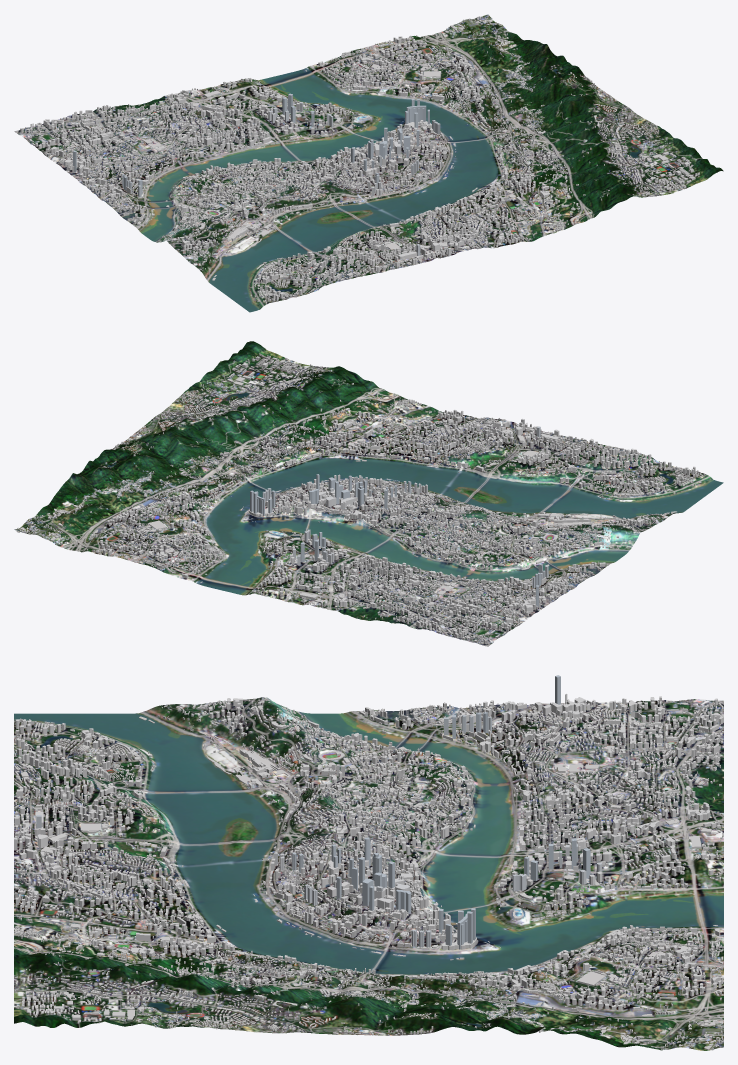
File: chongqing-yuzhong.glb
The picture shows the model from 3 angles, top to bottom: view 1: azimuth 30°, elevation 25°; view 2: azimuth 150°, elevation 25°; view 3: azimuth 270°, elevation 25°; orthographic projection. The views are drawn at different scales.
Visible parts, largest first — view 1: terrain, buildings; view 2: terrain, buildings; view 3: terrain, buildings.
Part boxes in pixels (<box>): terrain: <box>14,14,723,312</box>; buildings: <box>20,15,699,303</box>; terrain: <box>14,341,723,646</box>; buildings: <box>16,353,705,643</box>; terrain: <box>14,697,723,1050</box>; buildings: <box>14,675,723,1050</box>.
Bounding box in the file's own units: 7850 × 455 × 6760.
Materials: 2 (1 with a texture image).
